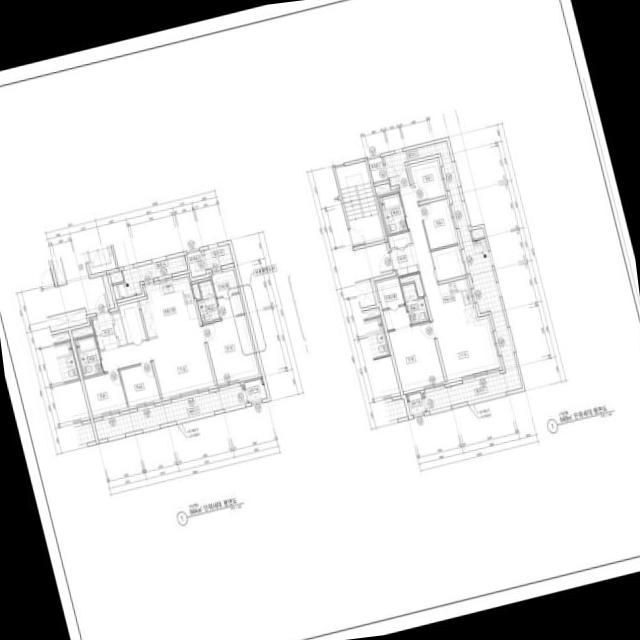background: (0, 0, 640, 640)
space_balconi: (383, 140, 521, 411), (94, 384, 247, 439), (112, 254, 187, 299), (203, 243, 233, 268)
space_bedroom: (202, 314, 259, 384), (387, 321, 444, 391), (83, 370, 127, 415), (419, 198, 457, 249), (119, 362, 160, 406), (409, 159, 445, 201)
space_dressroom: (375, 277, 409, 330), (210, 269, 243, 318)
space_front: (91, 311, 118, 350), (389, 244, 418, 276)
space_kitchen: (138, 276, 199, 337), (437, 277, 476, 327)
space_living_room: (399, 186, 499, 380), (99, 326, 214, 397)
space_other: (430, 244, 465, 280), (118, 301, 145, 343), (399, 273, 424, 296), (186, 250, 206, 277), (111, 312, 126, 345), (367, 156, 386, 182), (102, 274, 114, 308), (387, 230, 411, 247), (71, 326, 93, 338), (109, 270, 123, 283), (374, 182, 390, 193), (470, 227, 484, 239), (191, 283, 200, 298)
space_outdoor_room: (243, 377, 267, 402), (405, 391, 425, 415)
space_staircase: (335, 160, 384, 245)
space_toilet: (74, 334, 103, 376), (379, 192, 407, 234), (401, 282, 429, 324), (196, 279, 220, 322)
